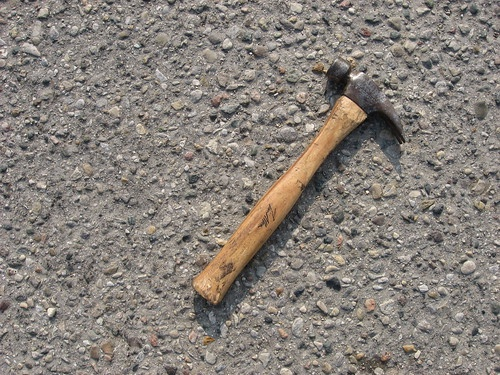hammer: (190, 58, 411, 310)
